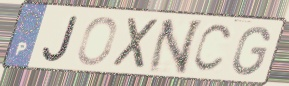C: (190, 22, 235, 75)
G: (231, 24, 273, 78)
J: (40, 14, 81, 65)
N: (144, 18, 206, 76)
O: (74, 15, 119, 68)
X: (110, 15, 163, 72)
